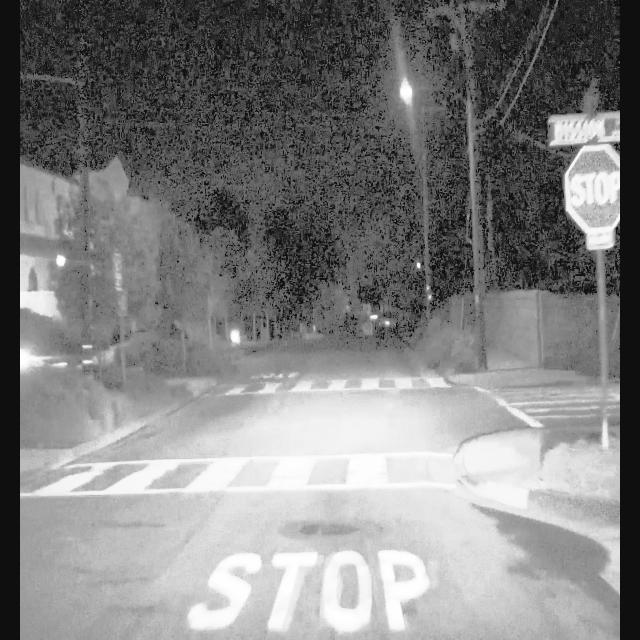Sign: (564, 143, 620, 247), (548, 115, 620, 144)
